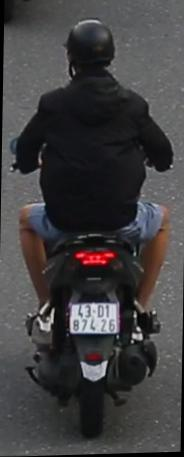LP: (68, 296, 122, 337)
helmet: (62, 15, 118, 90)
